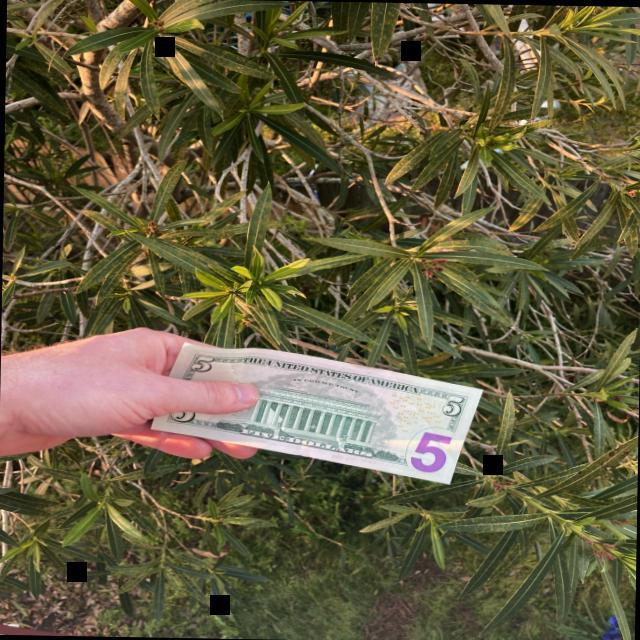five: (149, 342, 482, 483)
